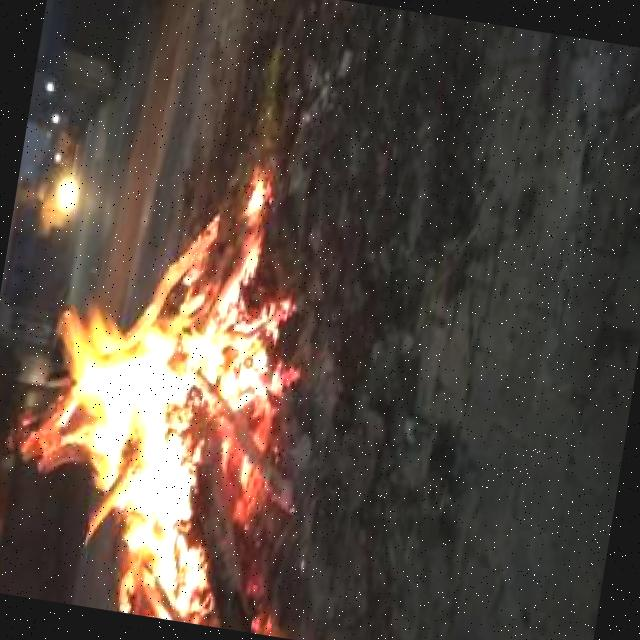fire: (3, 198, 317, 634)
